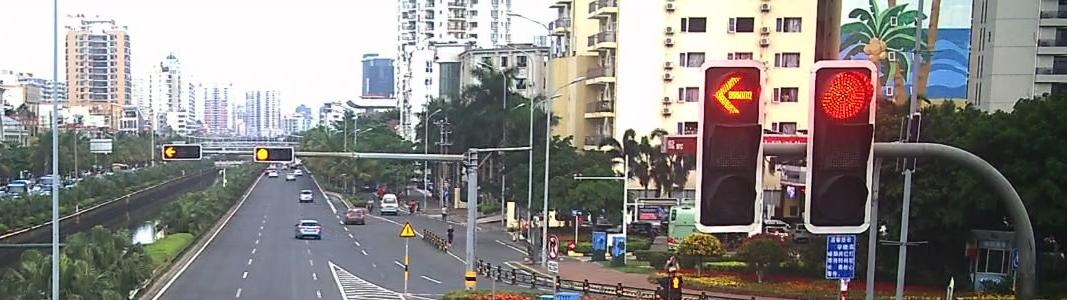red: (817, 68, 874, 124), (257, 147, 269, 161)
redleft: (710, 71, 760, 118), (165, 145, 176, 159)
redpeople: (668, 278, 682, 289)
